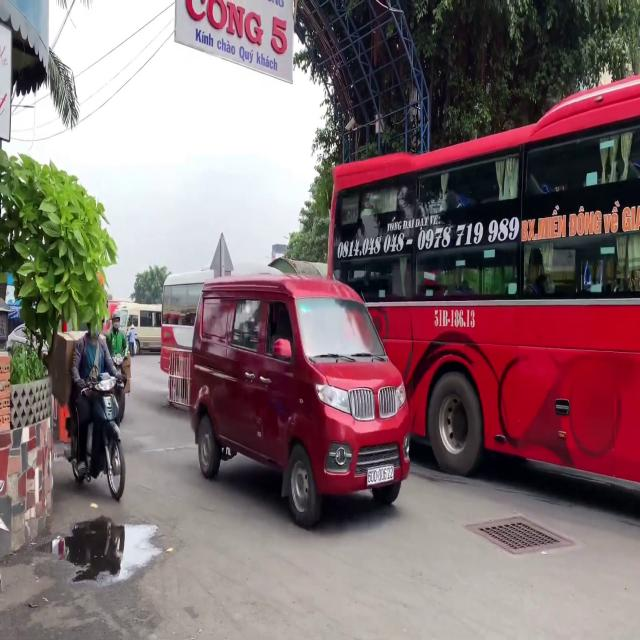bien_trang: (368, 465, 394, 485)
